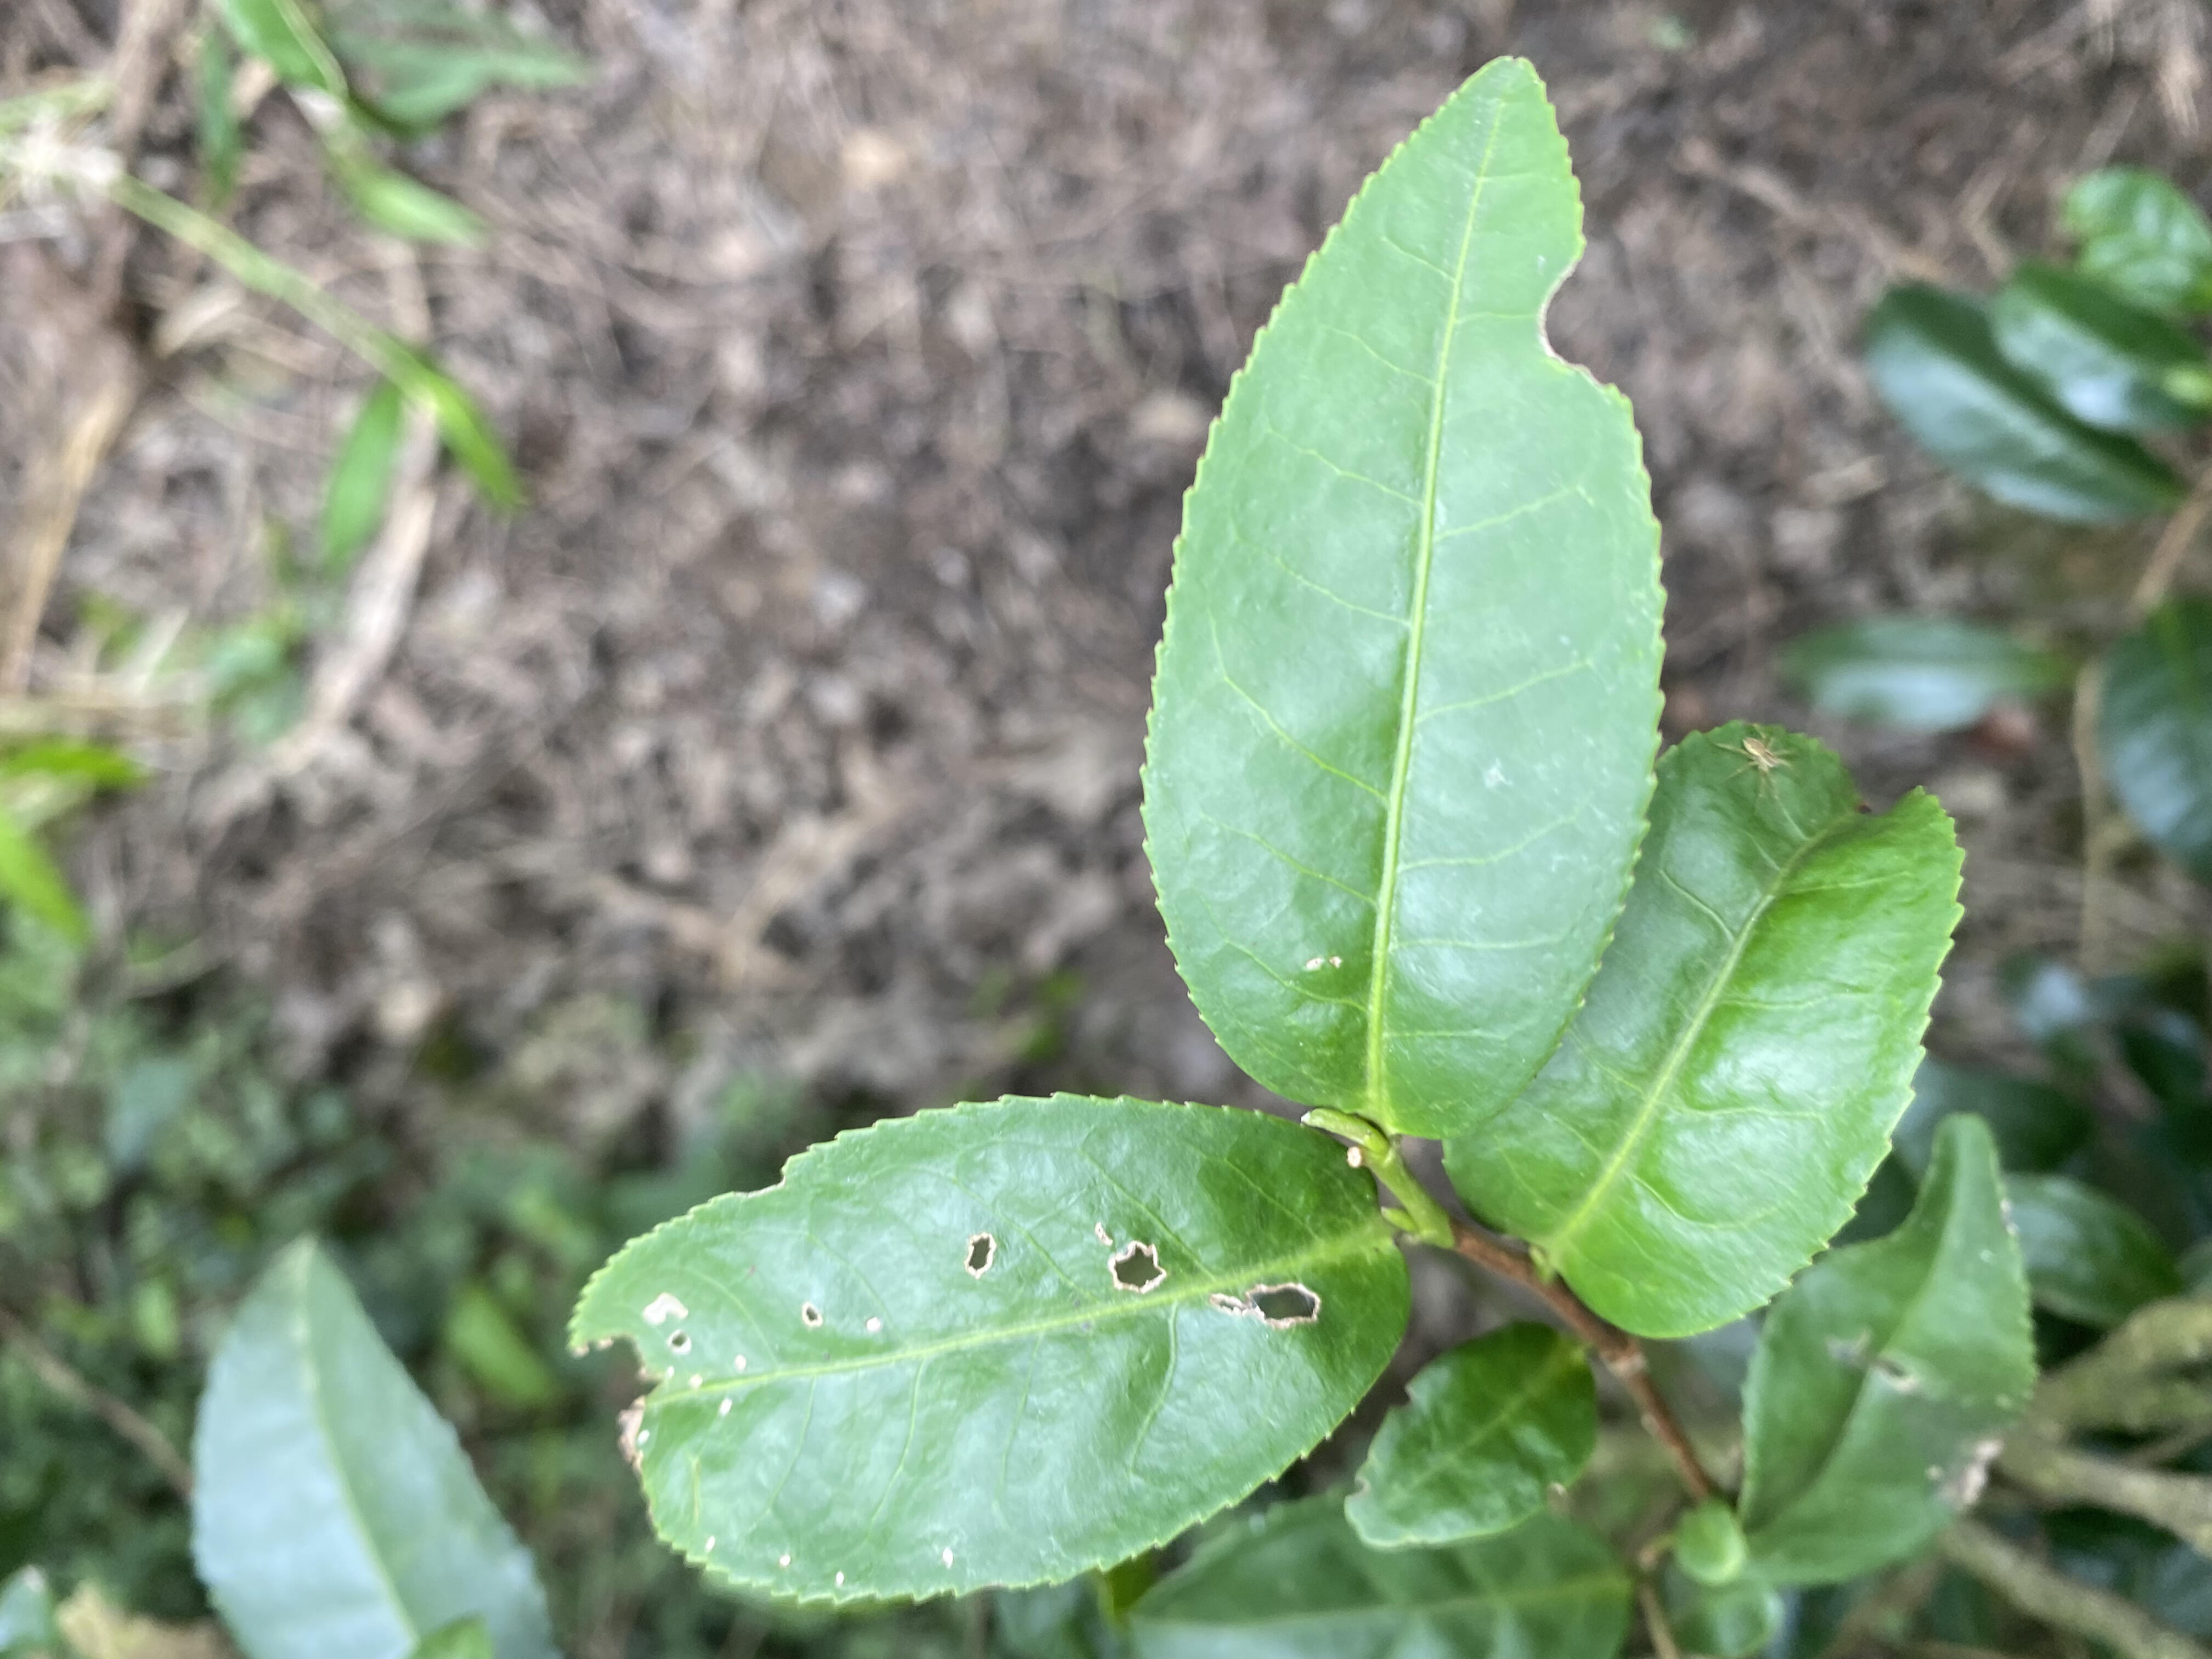chihuo_high: (566, 1089, 1418, 1612), (1341, 1324, 1601, 1544)
chihuo_low: (1139, 52, 1669, 1141)
healthy: (1442, 725, 1972, 1342)
